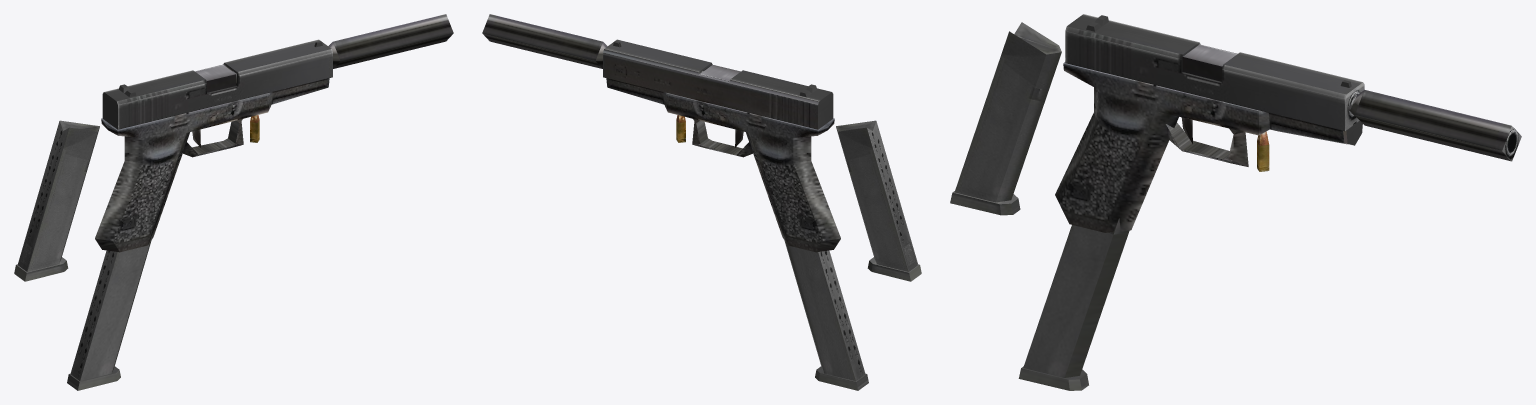
3 views of the same model, side by side, from view 1: azimuth 30°, elevation 25°; view 2: azimuth 150°, elevation 25°; view 3: azimuth 330°, elevation 25° (orthographic). The views are drawn at different scales.
Visible parts, largest first — view 1: GlockBody&Barrle&Trigger, GlockSlide, GlockMagazine`, GlockMagazineLong, Supressor; view 2: GlockBody&Barrle&Trigger, GlockSlide, GlockMagazine`, GlockMagazineLong, Supressor; view 3: GlockBody&Barrle&Trigger, GlockSlide, GlockMagazine`, GlockMagazineLong, Supressor.
Boxes of the visible parts, x1,y1,x2,y2 form: GlockBody&Barrle&Trigger: (95,65,329,252); GlockSlide: (102,39,332,129); GlockMagazine`: (14,120,99,281); GlockMagazineLong: (67,231,153,390); Supressor: (328,14,453,68); GlockBody&Barrle&Trigger: (606,65,840,252); GlockSlide: (603,39,833,129); GlockMagazine`: (836,120,921,281); GlockMagazineLong: (782,231,868,390); Supressor: (482,14,607,68); GlockBody&Barrle&Trigger: (1055,44,1356,232); GlockSlide: (1065,14,1364,145); GlockMagazine`: (950,22,1061,215); GlockMagazineLong: (1018,218,1129,390); Supressor: (1350,90,1521,161).
Size of the model in its own units: 4.04 by 2.58 by 0.2701.
6 materials, 6 textured.
